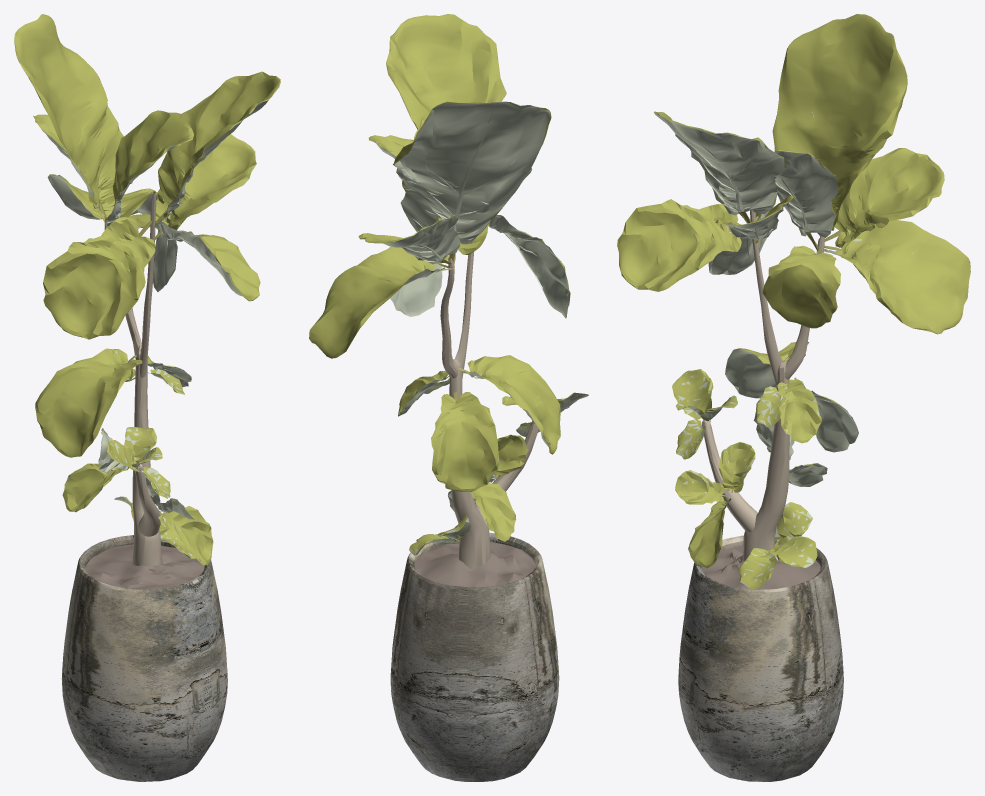
File: Planta3.glb
The picture shows the model from 3 angles, left to right: view 1: azimuth 30°, elevation 25°; view 2: azimuth 150°, elevation 25°; view 3: azimuth 270°, elevation 25°; orthographic projection.
Parts seen in each view (by area): view 1: Planta3; view 2: Planta3; view 3: Planta3.
Part boxes in pixels (x1,y1,x2,y2): Planta3: [14, 14, 280, 781]; Planta3: [309, 14, 588, 781]; Planta3: [617, 14, 970, 781].
Bounding box in the file's own units: 0.689 × 2.3 × 1.04.
Materials: 6 (1 with a texture image).
